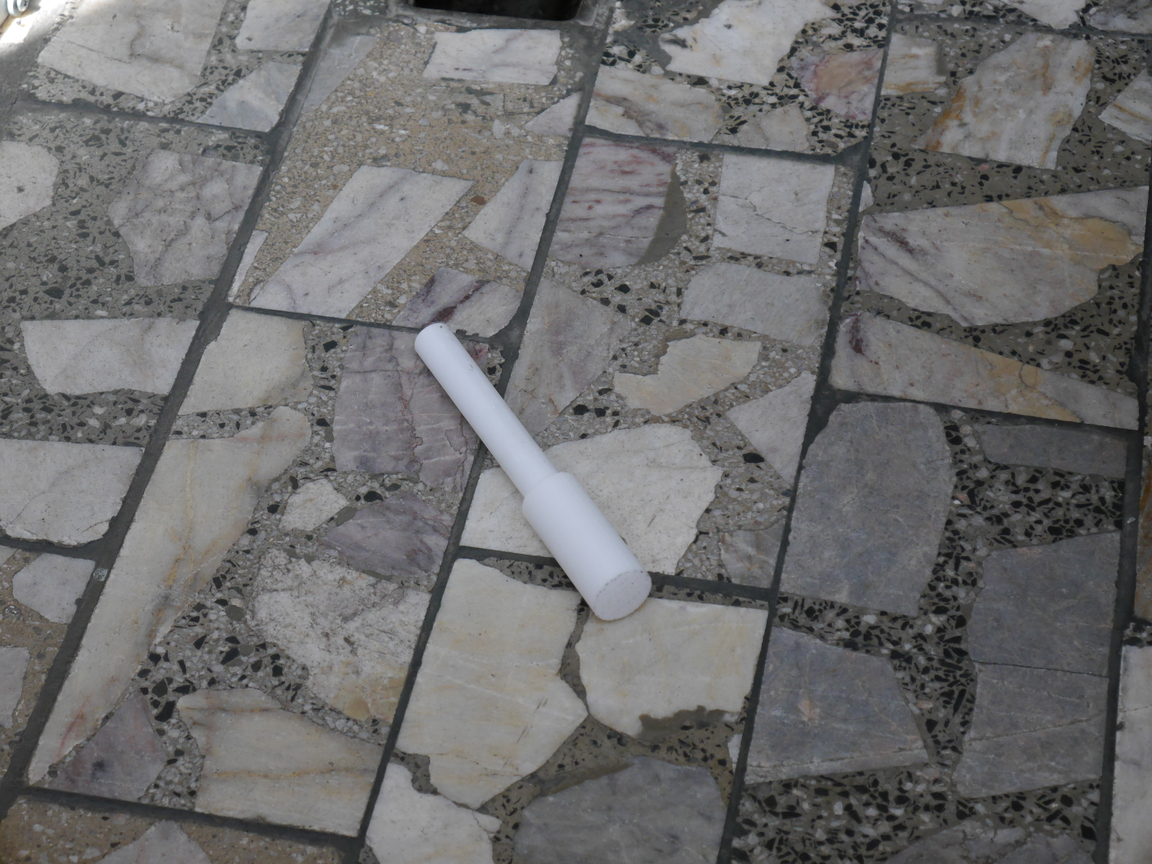cargo_g: (413, 323, 655, 624)
